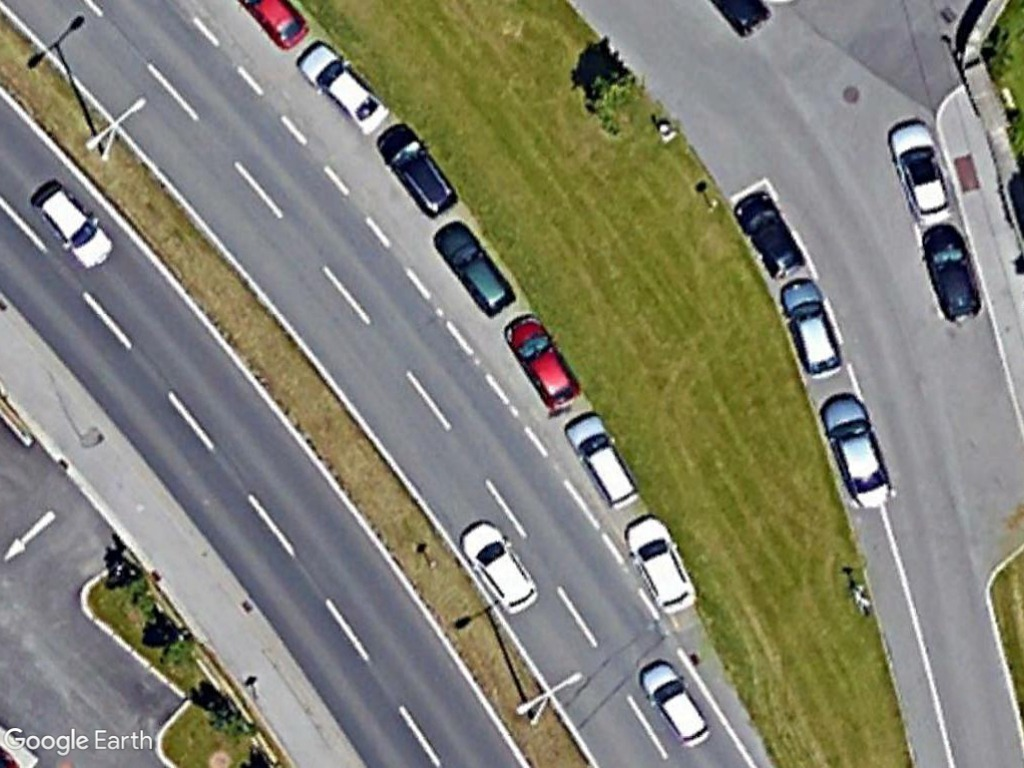car: (558, 405, 648, 521), (372, 112, 463, 221), (296, 37, 391, 140), (495, 308, 590, 411), (455, 519, 547, 623), (819, 389, 895, 513), (429, 216, 520, 319), (772, 271, 853, 386), (619, 508, 701, 621), (24, 176, 116, 273), (885, 115, 961, 229), (632, 657, 715, 753), (730, 188, 809, 283), (918, 217, 981, 324)
